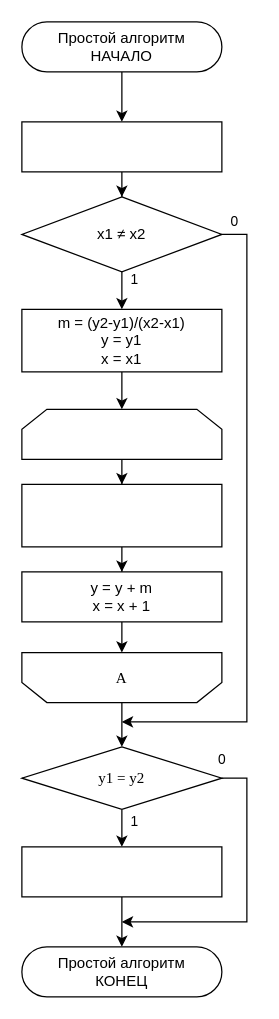
Image size: 279x1019. Some labels were removed from this diagram. Each missing label, with the box of its shape:
A x = x2: (21, 408, 222, 459)
x1, y1, x2, y2, col: (21, 121, 222, 172)
Закрасить пиксель x. y цветом col: (21, 483, 222, 547)
Закрасить пиксель x1. y1 цветом col: (21, 846, 222, 897)
